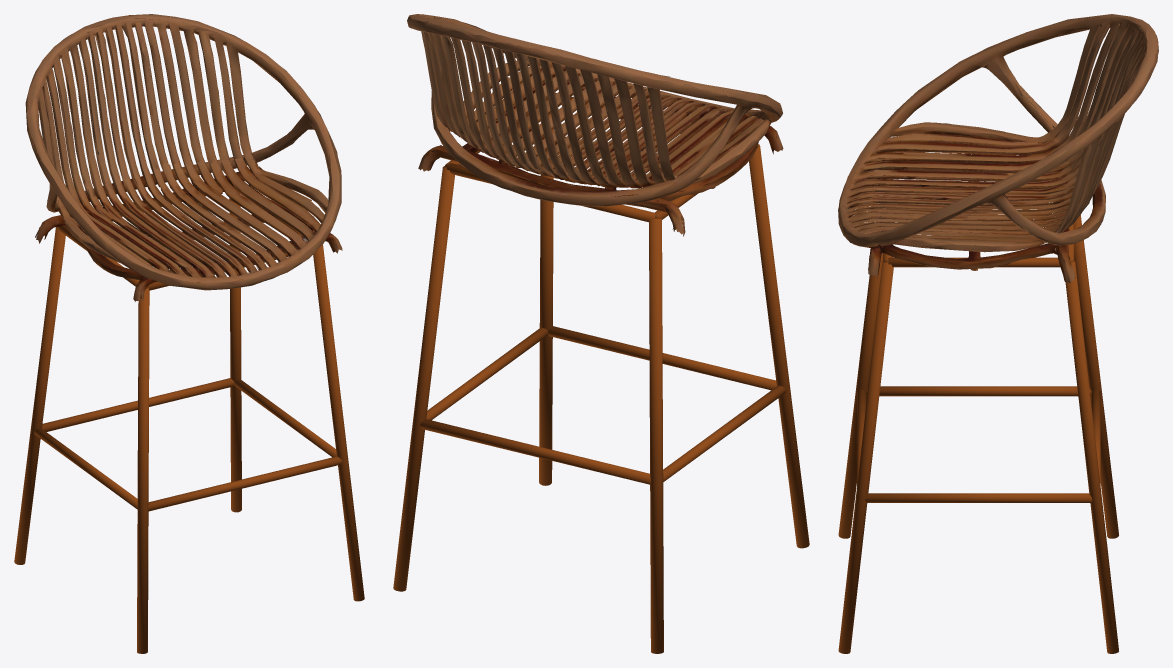
The model's file is cb_stool_balfour.glb.
3 renders of one model, left to right at view 1: azimuth 30°, elevation 25°; view 2: azimuth 150°, elevation 25°; view 3: azimuth 270°, elevation 25°, orthographic. The views are drawn at different scales.
Visible parts, largest first — view 1: cb_stool_balfour_shell, cb_stool_balfour_base; view 2: cb_stool_balfour_shell, cb_stool_balfour_base; view 3: cb_stool_balfour_shell, cb_stool_balfour_base.
Boxes of the visible parts, bbox=[...] form: cb_stool_balfour_shell: bbox=[25, 14, 342, 301]; cb_stool_balfour_base: bbox=[14, 187, 364, 653]; cb_stool_balfour_shell: bbox=[407, 14, 783, 236]; cb_stool_balfour_base: bbox=[393, 92, 809, 653]; cb_stool_balfour_shell: bbox=[838, 14, 1158, 282]; cb_stool_balfour_base: bbox=[838, 173, 1118, 653].
Bounding box in the file's own units: 0.6251 × 1.11 × 0.5852.
2 materials, 1 textured.
